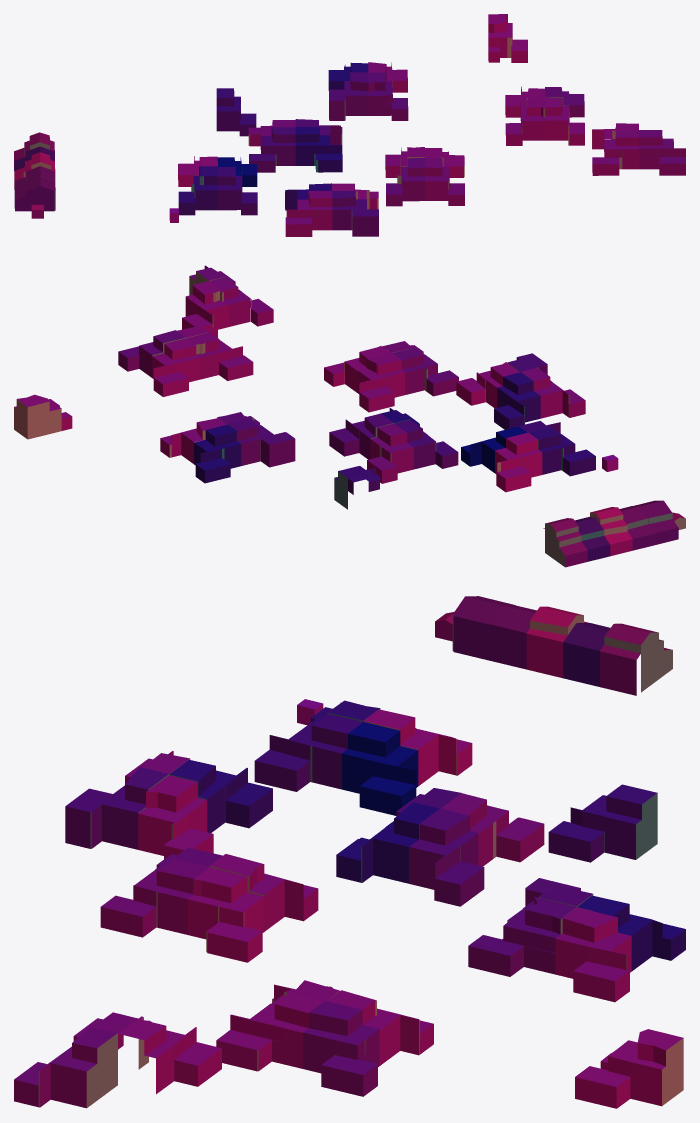
Rendered from buildings_3_4.glb.
3 renders of one model, top to bottom at view 1: azimuth 30°, elevation 25°; view 2: azimuth 150°, elevation 25°; view 3: azimuth 270°, elevation 25°, orthographic. The views are drawn at different scales.
Parts seen in each view (by area): view 1: buildings_3_4; view 2: buildings_3_4; view 3: buildings_3_4.
Part boxes in pixels (x1,y1,x2,y2): buildings_3_4: (14, 14, 685, 236); buildings_3_4: (14, 265, 685, 567); buildings_3_4: (14, 596, 685, 1108).
Size of the model in its own units: 172 by 8.81 by 101.
